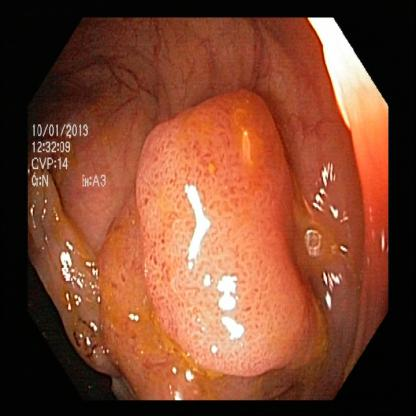Labels: (30, 117, 115, 196)
Polyps: (145, 113, 338, 382)
